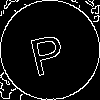P: (25, 25, 68, 77)
